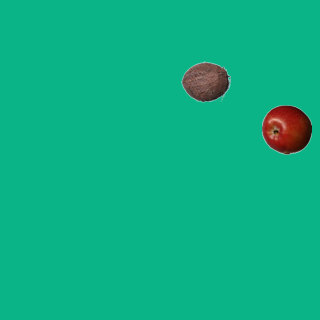Apple Braeburn: (261, 104, 311, 154)
Cocos: (180, 56, 230, 106)
